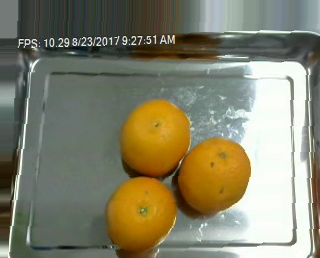Orange: (179, 137, 251, 215), (120, 99, 191, 175), (106, 176, 177, 251)
